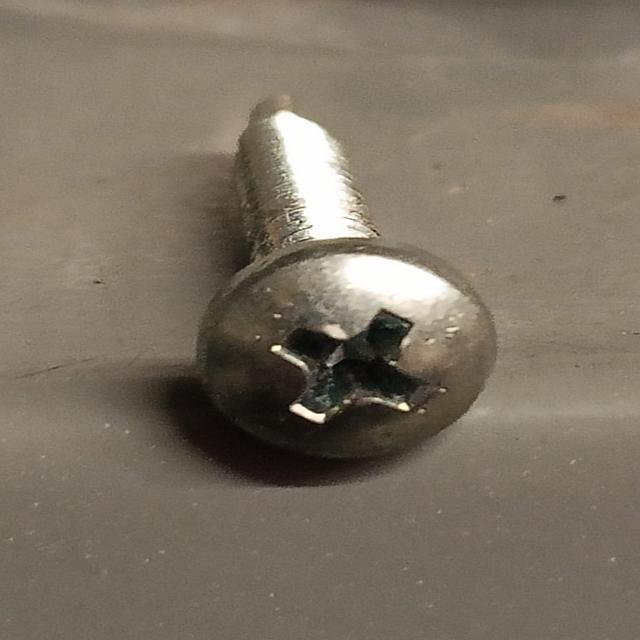phillips: (196, 237, 498, 464)
